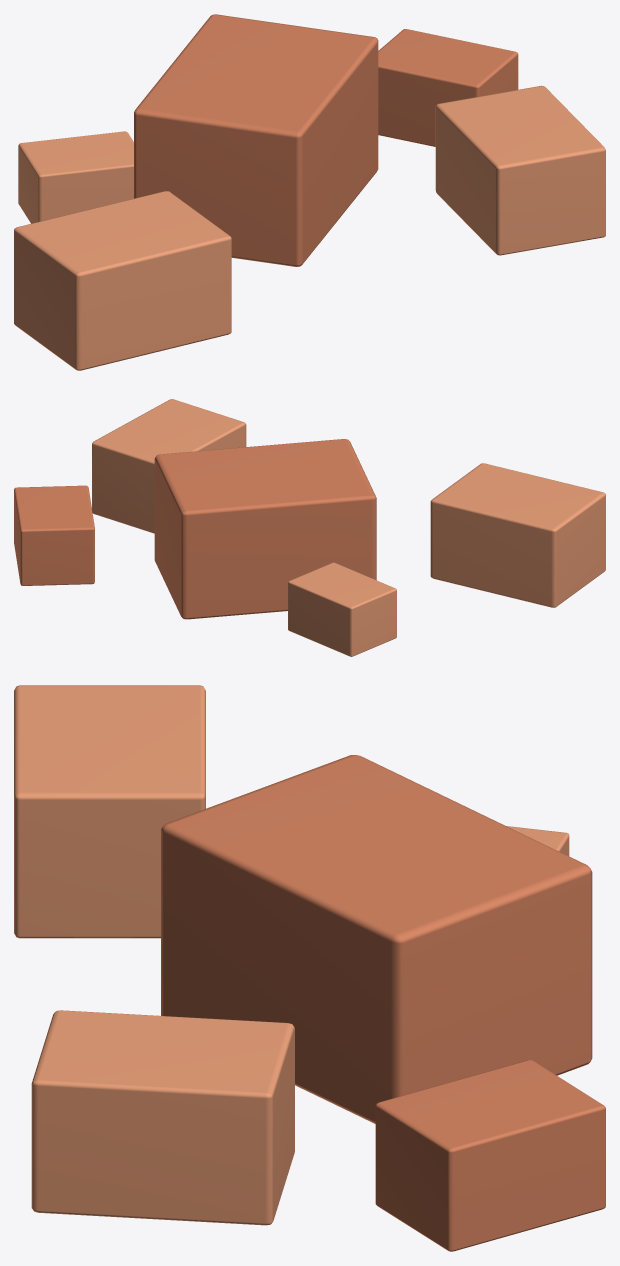
The model's file is rubble_cluster.glb.
3 renders of one model, top to bottom at view 1: azimuth 30°, elevation 25°; view 2: azimuth 150°, elevation 25°; view 3: azimuth 270°, elevation 25°, orthographic. The views are drawn at different scales.
Visible parts, largest first — view 1: Clay fragment.001, Clay fragment, Clay fragment.002, Clay fragment.003, Clay fragment.004; view 2: Clay fragment.001, Clay fragment, Clay fragment.002, Clay fragment.004, Clay fragment.003; view 3: Clay fragment.001, Clay fragment.002, Clay fragment, Clay fragment.003, Clay fragment.004.
Boxes of the visible parts, left/top/right/bottom form: Clay fragment.001: left=134, top=14, right=378, bottom=266; Clay fragment: left=14, top=191, right=231, bottom=370; Clay fragment.002: left=435, top=85, right=605, bottom=255; Clay fragment.003: left=378, top=29, right=518, bottom=146; Clay fragment.004: left=18, top=131, right=133, bottom=223; Clay fragment.001: left=154, top=439, right=376, bottom=619; Clay fragment: left=430, top=463, right=605, bottom=607; Clay fragment.002: left=92, top=399, right=246, bottom=533; Clay fragment.004: left=288, top=562, right=396, bottom=656; Clay fragment.003: left=14, top=485, right=94, bottom=585; Clay fragment.001: left=161, top=755, right=592, bottom=1123; Clay fragment.002: left=31, top=1010, right=294, bottom=1225; Clay fragment: left=14, top=685, right=205, bottom=938; Clay fragment.003: left=375, top=1060, right=605, bottom=1251; Clay fragment.004: left=506, top=826, right=569, bottom=855.
Size of the model in its own units: 1.32 by 0.2932 by 0.7772.
